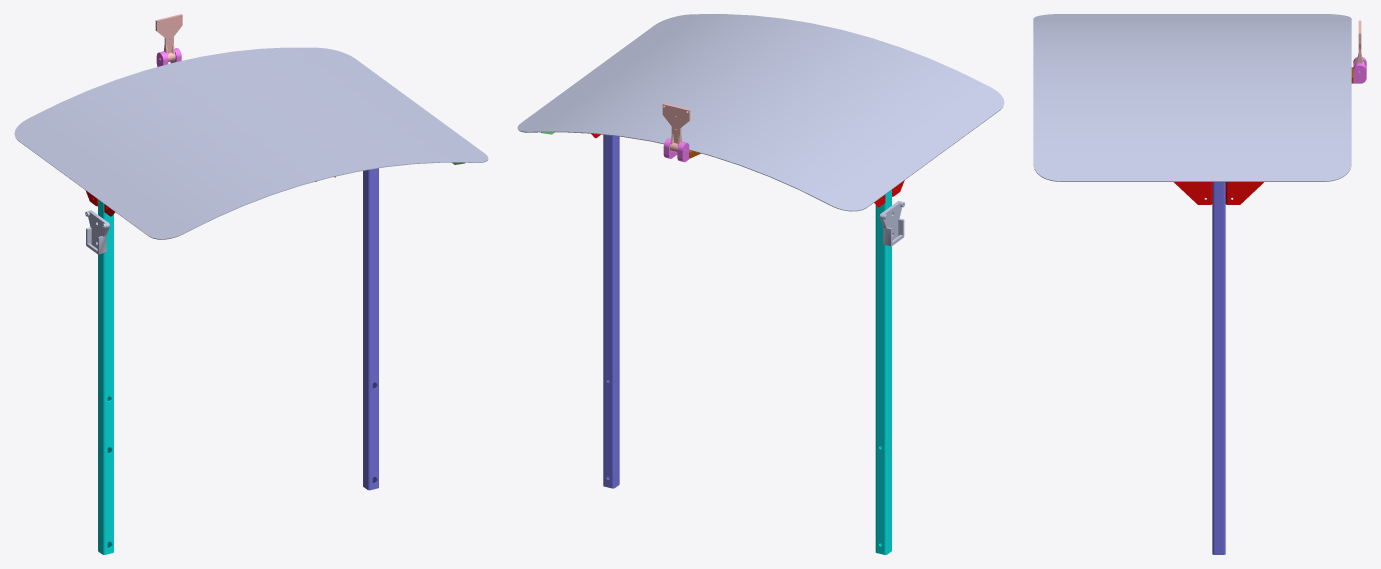
File: Rollbar_assembly-v2.glb
3 views of the same model, side by side, from view 1: azimuth 30°, elevation 25°; view 2: azimuth 150°, elevation 25°; view 3: azimuth 270°, elevation 25° (orthographic). The views are drawn at different scales.
Visible parts, largest first — view 1: ET plastic canopy_200-000047-001.STEP-1, MirrorWifi mounting bracket.STEP-1; view 2: ET plastic canopy_200-000047-001.STEP-1, MirrorWifi mounting bracket.STEP-1; view 3: ET plastic canopy_200-000047-001.STEP-1, MirrorWifi mounting bracket.STEP-1.
Part boxes in pixels (x1,y1,x2,y2): ET plastic canopy_200-000047-001.STEP-1: [14, 47, 488, 254]; MirrorWifi mounting bracket.STEP-1: [85, 14, 465, 554]; ET plastic canopy_200-000047-001.STEP-1: [517, 14, 1004, 246]; MirrorWifi mounting bracket.STEP-1: [541, 103, 904, 554]; ET plastic canopy_200-000047-001.STEP-1: [1033, 14, 1364, 181]; MirrorWifi mounting bracket.STEP-1: [1174, 20, 1366, 554].
Bounding box in the file's own units: 1.52 × 1.94 × 1.28.
Materials: 2 (2 with a texture image).
